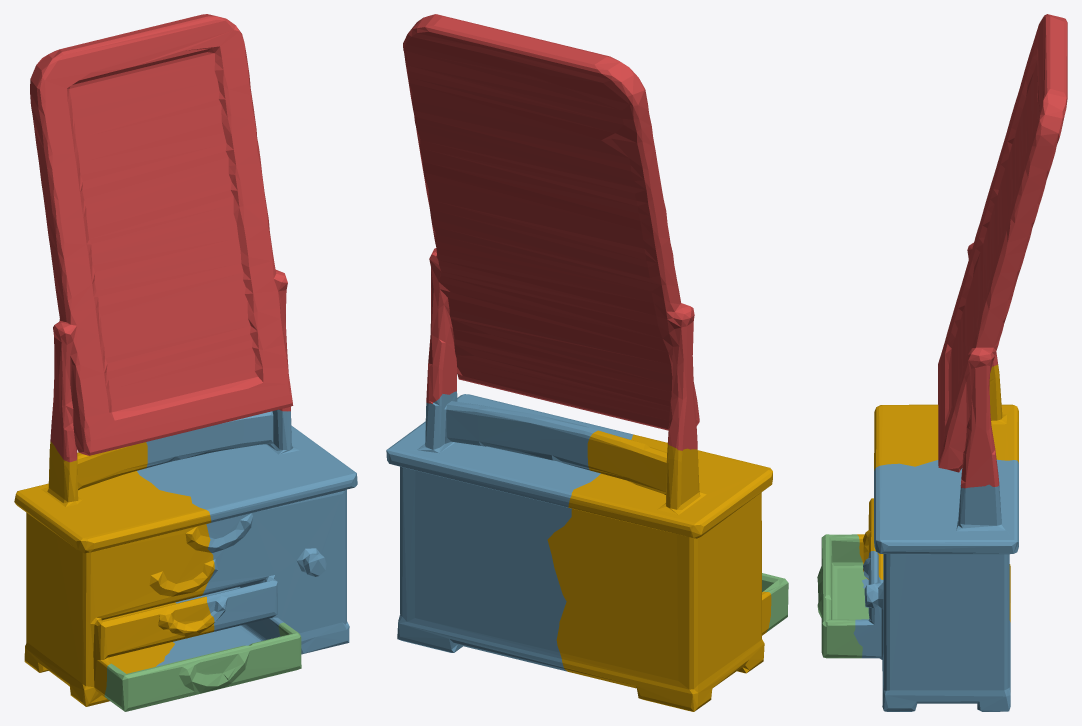
File: mode_5_4pcs.glb
The picture shows the model from 3 angles, left to right: view 1: azimuth 30°, elevation 25°; view 2: azimuth 150°, elevation 25°; view 3: azimuth 270°, elevation 25°; orthographic projection. The views are drawn at different scales.
Parts seen in each view (by area): view 1: piece_1.obj, piece_0.obj, piece_2.obj, piece_3.obj; view 2: piece_1.obj, piece_0.obj, piece_2.obj, piece_3.obj; view 3: piece_2.obj, piece_1.obj, piece_0.obj, piece_3.obj.
Boxes of the visible parts, x1=… form: piece_1.obj: x1=30, y1=14, x2=293, y2=462; piece_0.obj: x1=14, y1=441, x2=214, y2=706; piece_2.obj: x1=137, y1=409, x2=357, y2=666; piece_3.obj: x1=104, y1=622, x2=301, y2=711; piece_1.obj: x1=403, y1=14, x2=699, y2=450; piece_0.obj: x1=547, y1=430, x2=772, y2=711; piece_2.obj: x1=386, y1=391, x2=633, y2=671; piece_3.obj: x1=762, y1=573, x2=788, y2=632; piece_2.obj: x1=853, y1=459, x2=1018, y2=711; piece_1.obj: x1=938, y1=14, x2=1067, y2=488; piece_0.obj: x1=857, y1=364, x2=1018, y2=622; piece_3.obj: x1=817, y1=534, x2=869, y2=658.
Size of the model in its own units: 0.502 by 1 by 0.3814.
